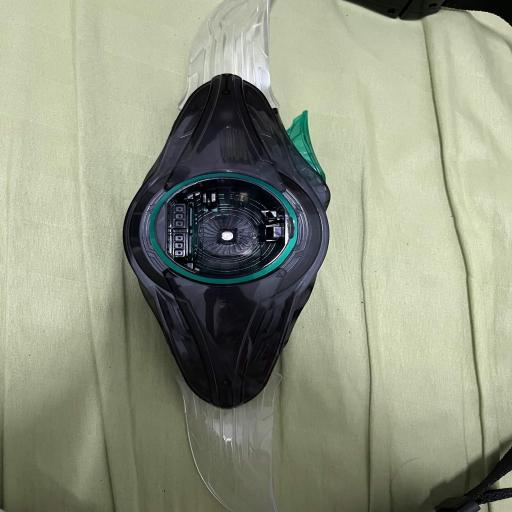zeztzdriver: (123, 0, 330, 512)
